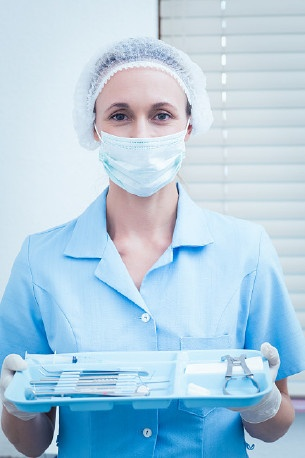Mask: (95, 97, 185, 188)
